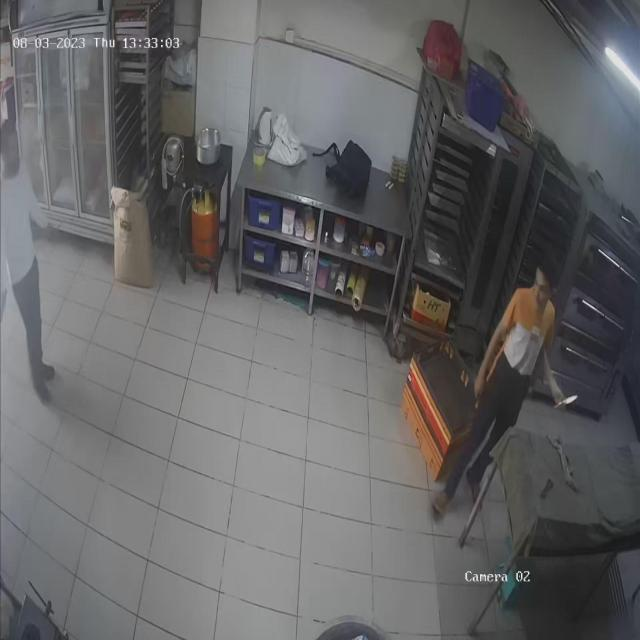Knife: (548, 381, 586, 422)
